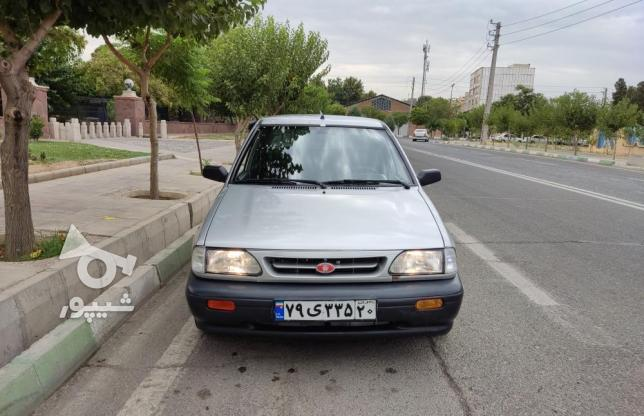car: (271, 300, 377, 324)
